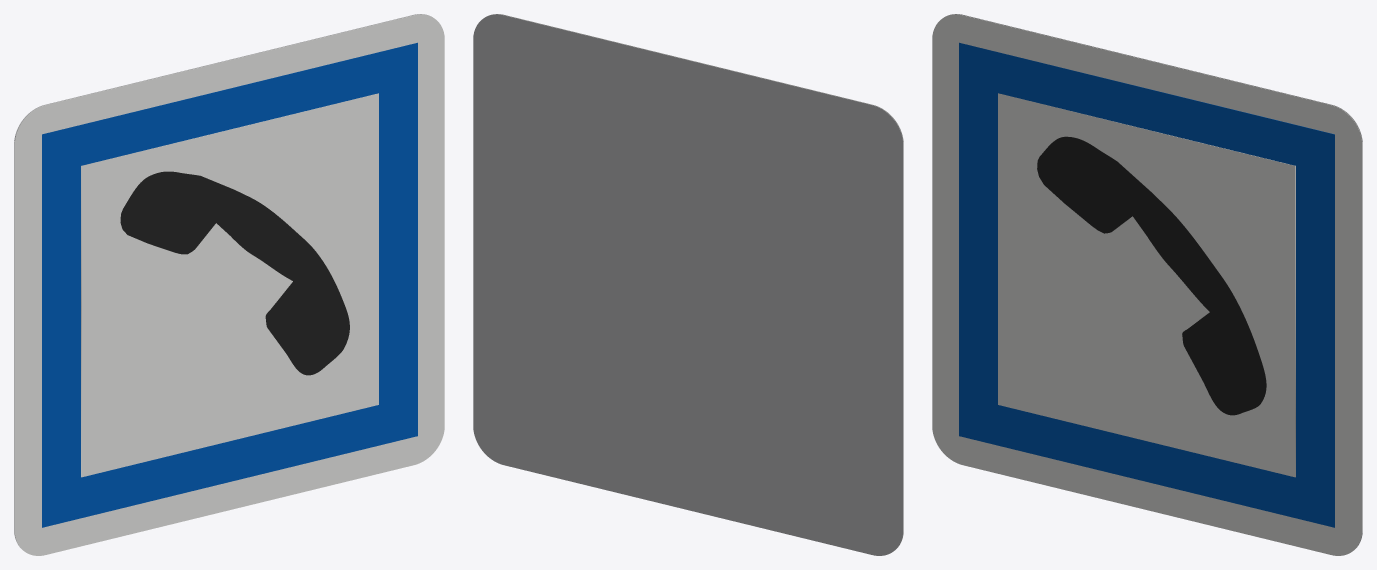
3 renders of one model, left to right at view 1: azimuth 30°, elevation 25°; view 2: azimuth 150°, elevation 25°; view 3: azimuth 330°, elevation 25°, orthographic.
Parts seen in each view (by area): view 1: CE2b_p02, CE2b_p01, CE2b_p00, CE2b_p03, CE2b_dos; view 2: CE2b_dos, CE2b_p00; view 3: CE2b_p02, CE2b_p01, CE2b_p00, CE2b_p03, CE2b_dos.
Part boxes in pixels (x1=…): CE2b_p02: x1=81, y1=93, x2=378, y2=477; CE2b_p01: x1=42, y1=42, x2=417, y2=527; CE2b_p00: x1=14, y1=14, x2=444, y2=555; CE2b_p03: x1=120, y1=171, x2=349, y2=375; CE2b_dos: x1=14, y1=14, x2=431, y2=547; CE2b_dos: x1=473, y1=14, x2=903, y2=555; CE2b_p00: x1=486, y1=14, x2=903, y2=547; CE2b_p02: x1=998, y1=93, x2=1295, y2=477; CE2b_p01: x1=959, y1=42, x2=1334, y2=527; CE2b_p00: x1=932, y1=14, x2=1362, y2=555; CE2b_p03: x1=1037, y1=136, x2=1266, y2=415; CE2b_dos: x1=945, y1=14, x2=1362, y2=547.
Size of the model in its own units: 0.7 by 0.6999 by 0.0031.
